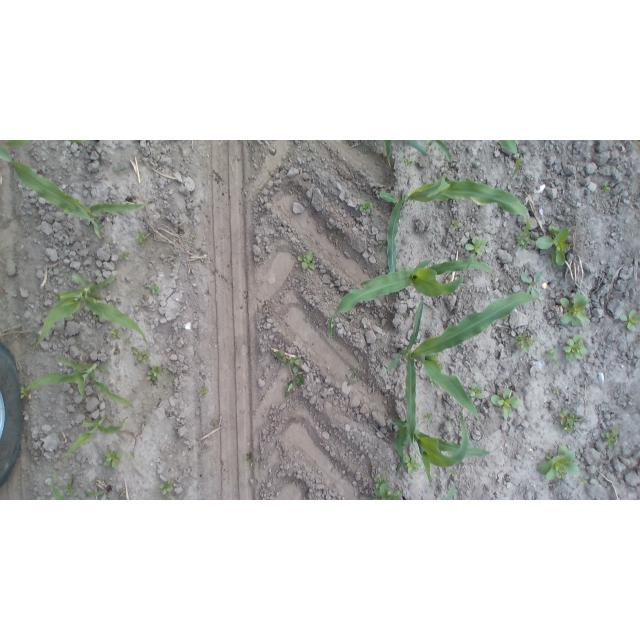Maize: (389, 290, 536, 445), (377, 168, 531, 275), (329, 259, 498, 347), (0, 145, 146, 237), (385, 407, 499, 487), (34, 271, 149, 350), (24, 357, 135, 408), (62, 413, 126, 458), (498, 140, 522, 176), (430, 141, 453, 164), (48, 471, 66, 499), (405, 141, 431, 160), (84, 484, 113, 500), (383, 140, 395, 173), (443, 483, 457, 500), (7, 141, 32, 146), (69, 141, 86, 146)
Weeds: (272, 347, 308, 397), (533, 225, 571, 266), (537, 443, 579, 480), (556, 291, 593, 330), (490, 385, 522, 421), (563, 334, 589, 361), (463, 235, 489, 261), (560, 406, 582, 435), (520, 272, 544, 298), (512, 333, 536, 355), (102, 448, 124, 471), (619, 308, 639, 333), (601, 426, 619, 452), (374, 484, 403, 500), (297, 250, 317, 272), (403, 455, 422, 475), (132, 347, 152, 365), (146, 364, 162, 385), (157, 479, 174, 496), (358, 199, 375, 216), (146, 281, 164, 297), (543, 346, 559, 363), (344, 371, 359, 388), (469, 381, 483, 398), (517, 233, 531, 248), (372, 476, 388, 488), (450, 217, 462, 231), (19, 384, 30, 399), (137, 231, 147, 247), (65, 483, 76, 497), (112, 165, 127, 174), (109, 328, 120, 340), (401, 156, 413, 167), (198, 387, 209, 398), (244, 451, 255, 462), (601, 180, 611, 192), (422, 412, 433, 421), (210, 418, 221, 427), (450, 469, 460, 478), (123, 250, 131, 261), (550, 386, 559, 395), (580, 478, 587, 487), (128, 448, 134, 458), (190, 234, 196, 242), (70, 473, 77, 479), (427, 142, 433, 149)
